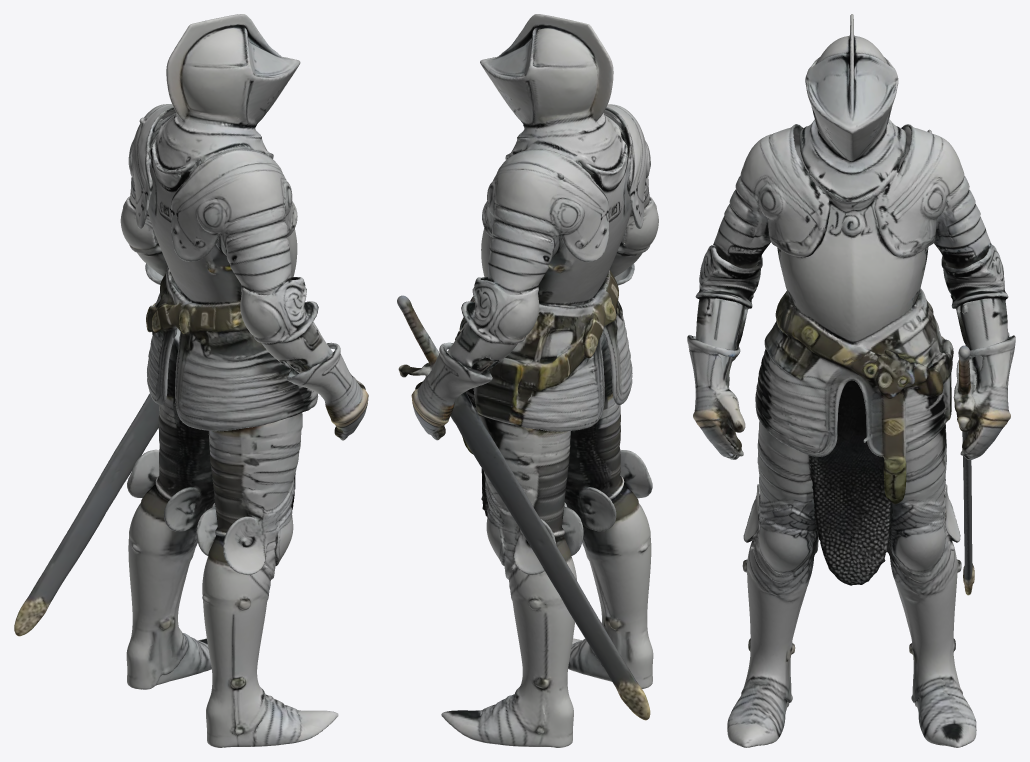
Rendered from TC004_Tripo 3D-2.5.glb.
3 views of the same model, side by side, from view 1: azimuth 30°, elevation 25°; view 2: azimuth 150°, elevation 25°; view 3: azimuth 270°, elevation 25° (orthographic).
Parts seen in each view (by area): view 1: tripo_node_99c59cea-1134-49d7-89bc-aa14ba5fe844; view 2: tripo_node_99c59cea-1134-49d7-89bc-aa14ba5fe844; view 3: tripo_node_99c59cea-1134-49d7-89bc-aa14ba5fe844.
Boxes of the visible parts, x1,y1,x2,y2 form: tripo_node_99c59cea-1134-49d7-89bc-aa14ba5fe844: [14, 14, 368, 747]; tripo_node_99c59cea-1134-49d7-89bc-aa14ba5fe844: [397, 14, 658, 747]; tripo_node_99c59cea-1134-49d7-89bc-aa14ba5fe844: [687, 14, 1015, 747].
Size of the model in its own units: 0.389 by 1 by 0.4268.
Materials: 1 (1 with a texture image).
